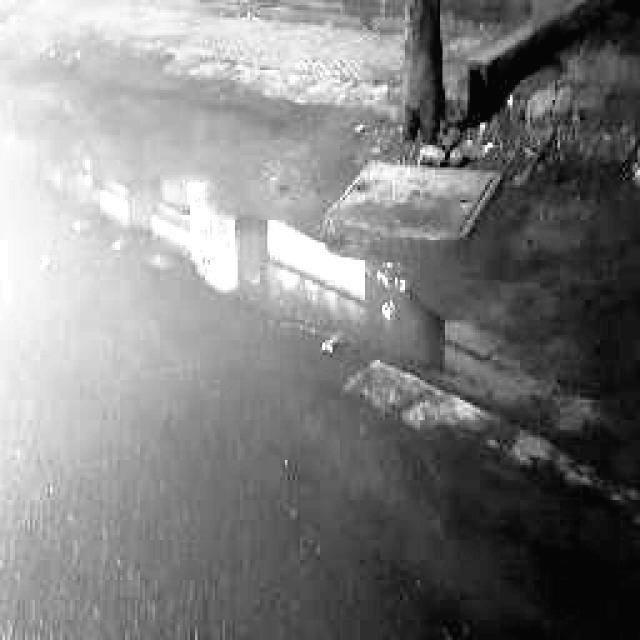Pothole: (40, 151, 455, 390)
